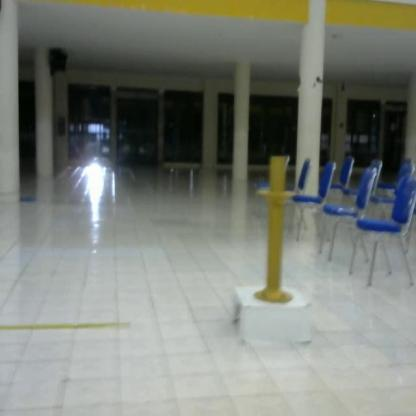pole: (253, 152, 301, 308)
